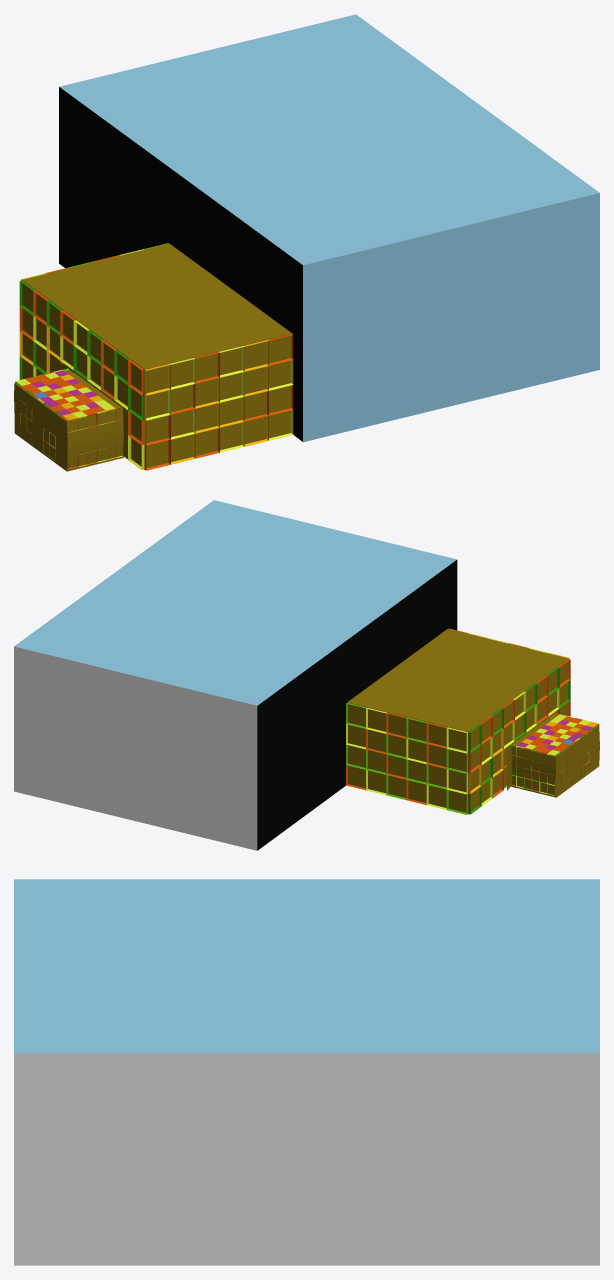
Rendered from 1levelpustoi.fbx.
The picture shows the model from 3 angles, top to bottom: view 1: azimuth 30°, elevation 25°; view 2: azimuth 150°, elevation 25°; view 3: azimuth 270°, elevation 25°; orthographic projection. The views are drawn at different scales.
Parts seen in each view (by area): view 1: Cube.007; view 2: Cube.007; view 3: Cube.007.
Part boxes in pixels (x1,y1,x2,y2): Cube.007: (14, 14, 599, 471); Cube.007: (14, 500, 599, 850); Cube.007: (14, 879, 599, 1265).
Bounding box in the file's own units: 4147 × 1417 × 3491.
Materials: 1 (1 with a texture image).
